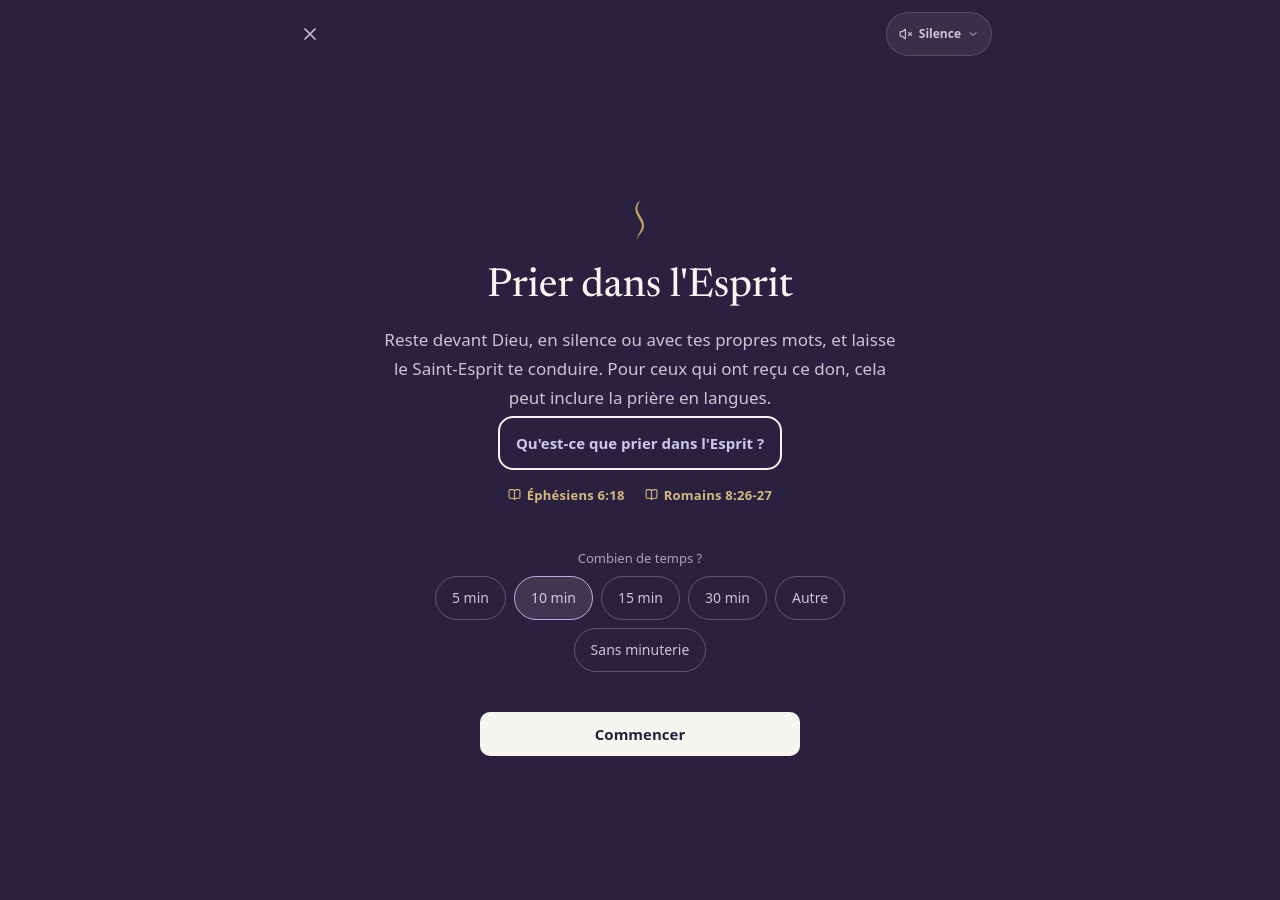
Test: PrayInTheSpirit › ends the stillness on its own after the chosen time
The image size is (1280, 900).
What coordinates should you click on to do the following:
click the button "5 min"
I would click on:
 (470, 598)
Its box is left=435, top=576, right=506, bottom=620.
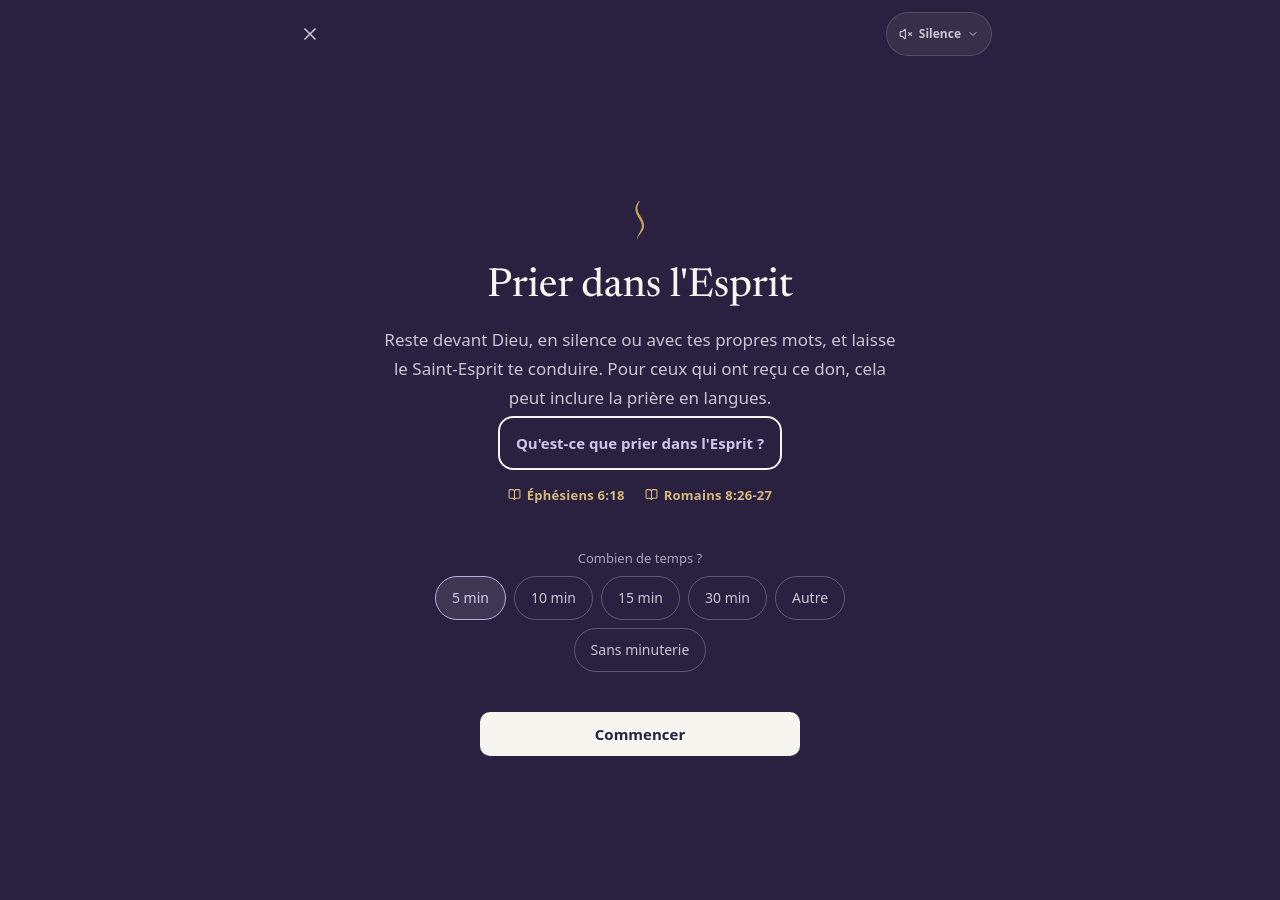
What coordinates should you click on to do the following:
click the button "Commencer"
I would click on:
 (640, 734)
Its box is left=480, top=712, right=800, bottom=756.
Wait 300000 ms
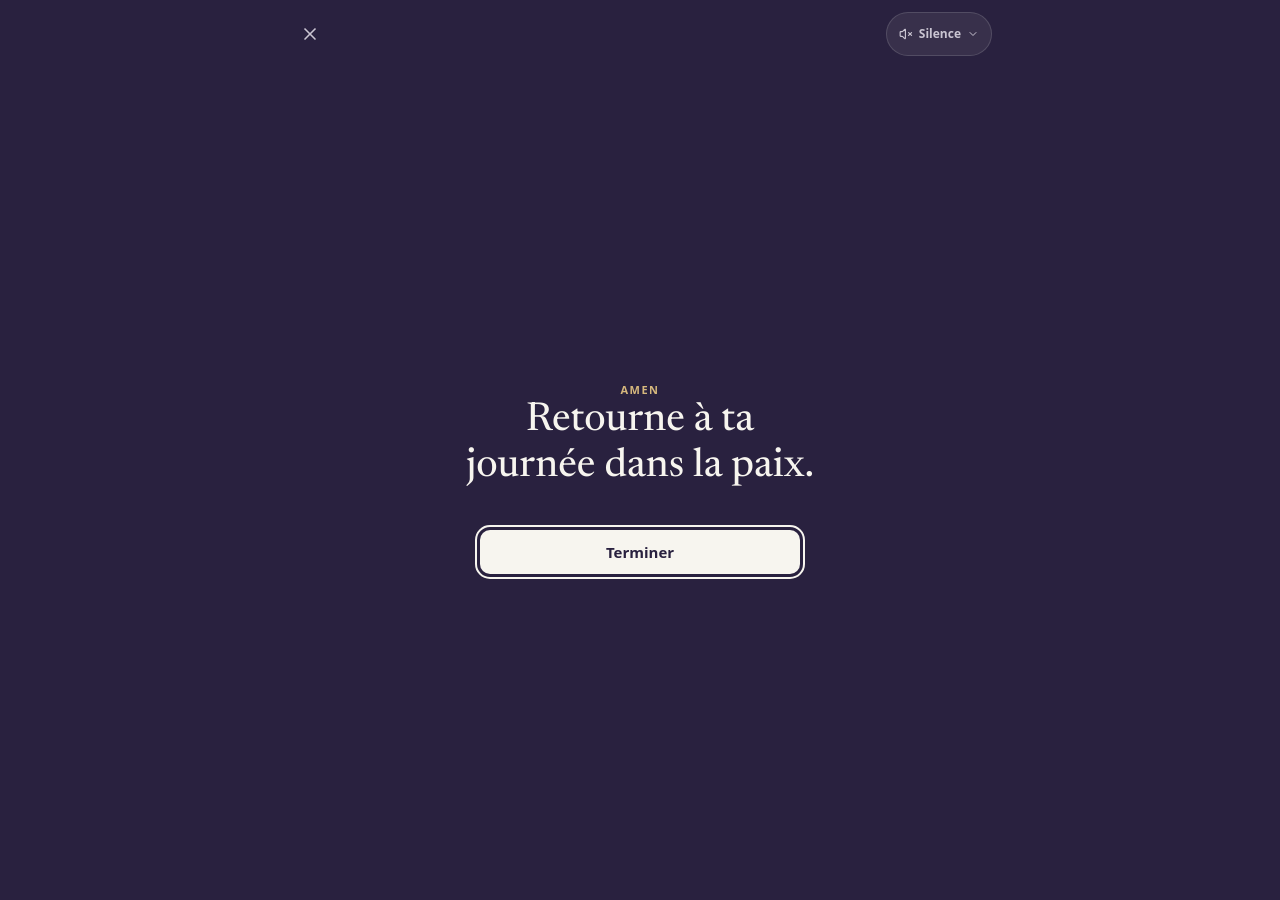
Check: the text "Retourne à ta journée dans la paix." is shown, box left=466, top=401, right=814, bottom=487
